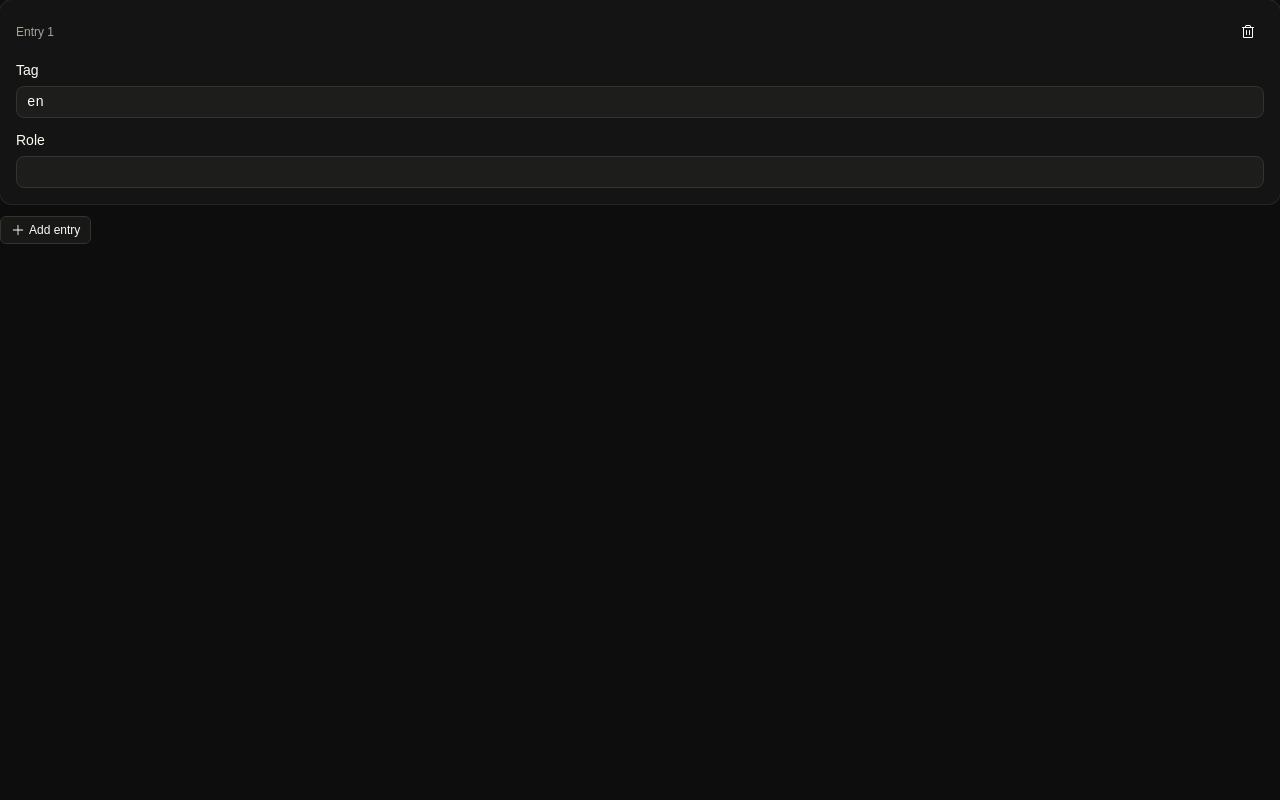
Scenario: RepeatableCards - the removal's buttons are texts of the bundle › names its buttons from the settings section, so an override shows
This screenshot has width=1280, height=800.
Click the button named "Remove entry 1".
click(1248, 32)  # box [1232,16,1264,48]
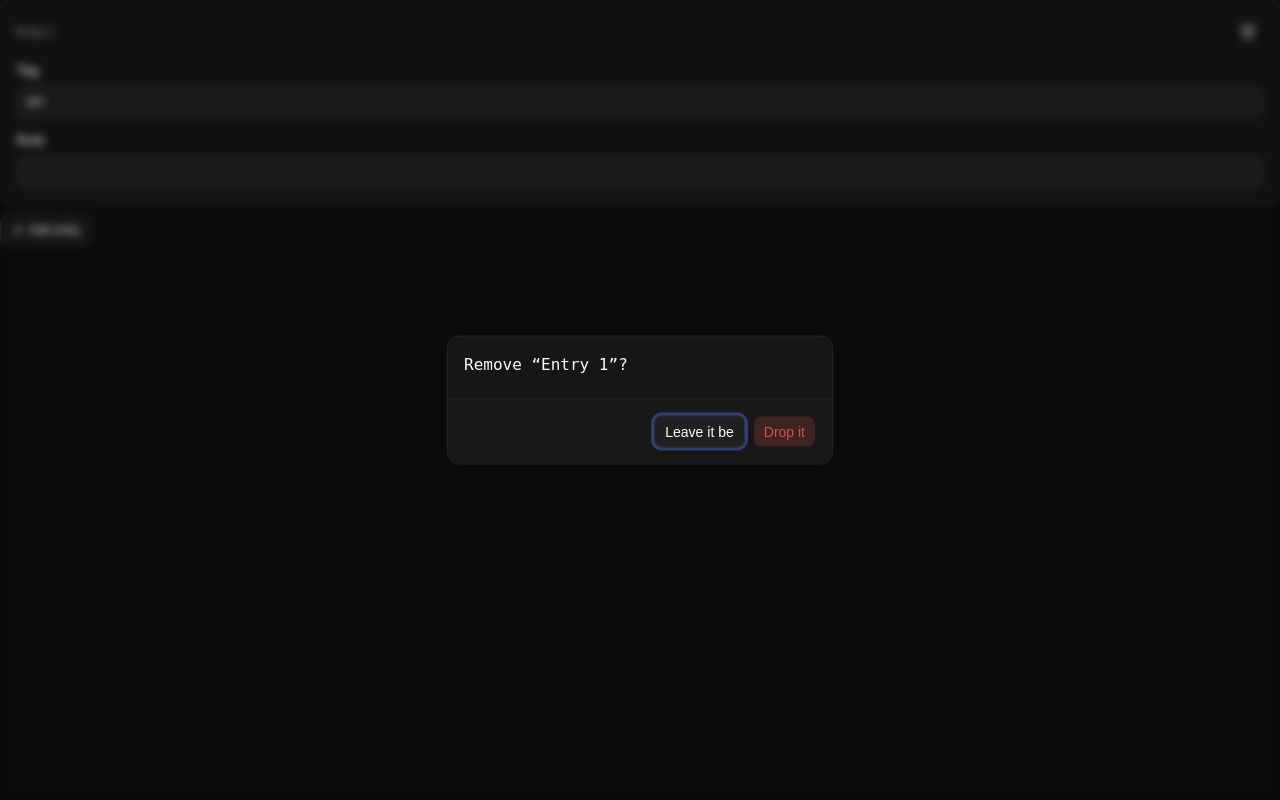
expect the button "Leave it be" is shown: met, box [654,416,745,448]
expect the button "Drop it" is shown: met, box [753,416,816,448]
